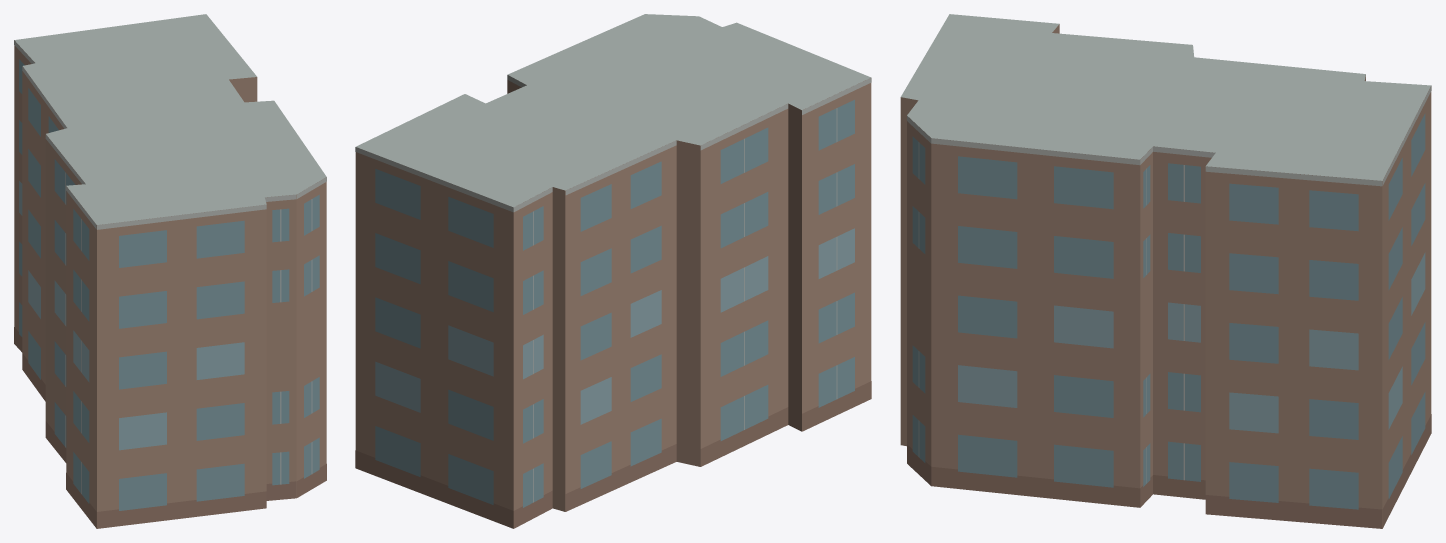
File: survey-upis-32571203.glb
3 views of the same model, side by side, from view 1: azimuth 30°, elevation 25°; view 2: azimuth 150°, elevation 25°; view 3: azimuth 270°, elevation 25° (orthographic). The views are drawn at different scales.
Parts seen in each view (by area): view 1: survey-upis-32571203.tmp; view 2: survey-upis-32571203.tmp; view 3: survey-upis-32571203.tmp.
Part boxes in pixels (box(x1,y1,x2,y2)): survey-upis-32571203.tmp: box(14, 14, 326, 528); survey-upis-32571203.tmp: box(355, 14, 871, 528); survey-upis-32571203.tmp: box(900, 14, 1431, 528).
Bounding box in the file's own units: 15.95 × 15.5 × 21.43.
